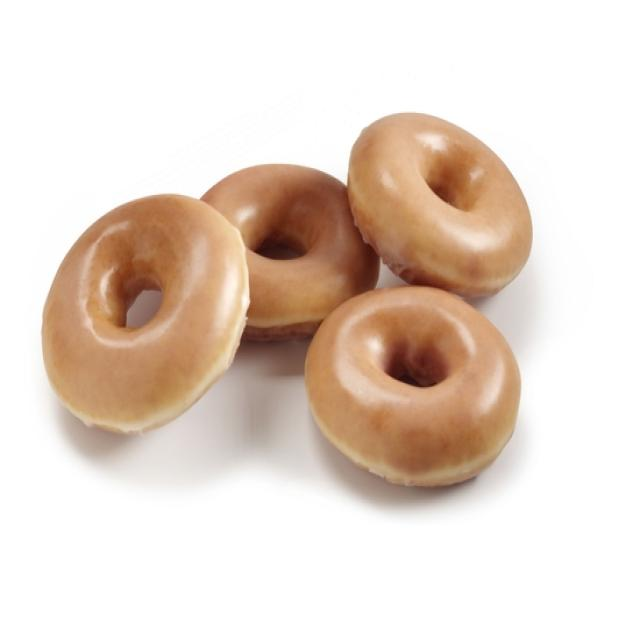炸货点心: (37, 82, 549, 511)
